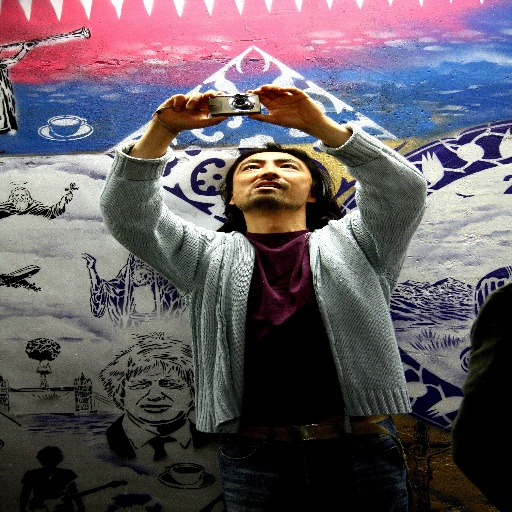hand: (256, 81, 360, 149), (151, 91, 230, 135)
